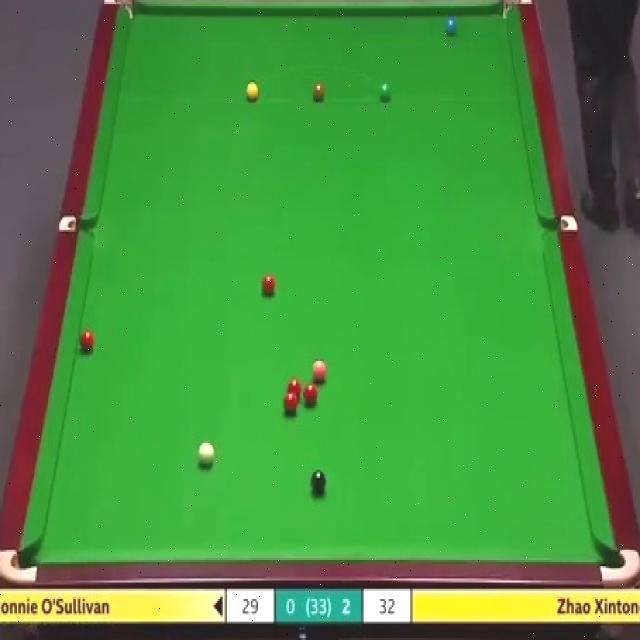black-ball: (309, 469, 326, 496)
blue-ball: (446, 17, 456, 39)
brown-ball: (312, 84, 326, 101)
green-ball: (378, 80, 393, 104)
pink-ball: (311, 358, 328, 383)
red-ball: (77, 329, 96, 354), (302, 383, 318, 407), (288, 378, 302, 402), (260, 274, 276, 294), (284, 392, 298, 413)
white-ball: (196, 440, 216, 471)
yellow-ball: (245, 81, 259, 102)
